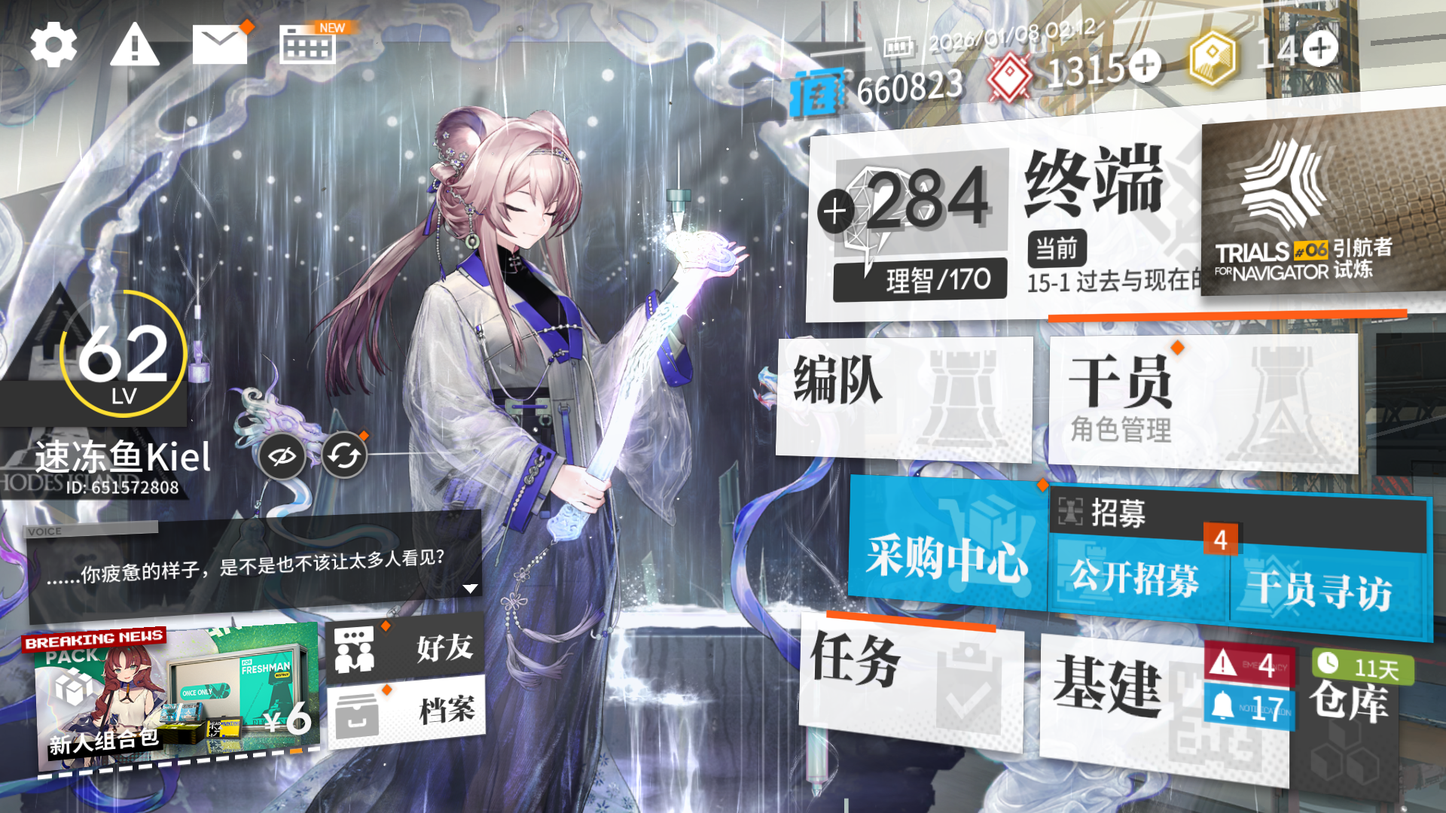home_button: (1004, 123, 1175, 249)
infrastructure_button: (1045, 638, 1282, 787)
